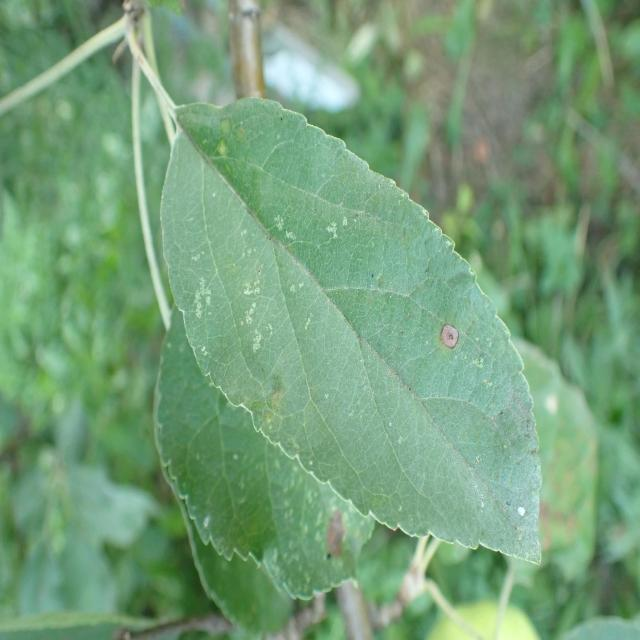frog-eye-leaf-spot: (158, 94, 544, 570)
